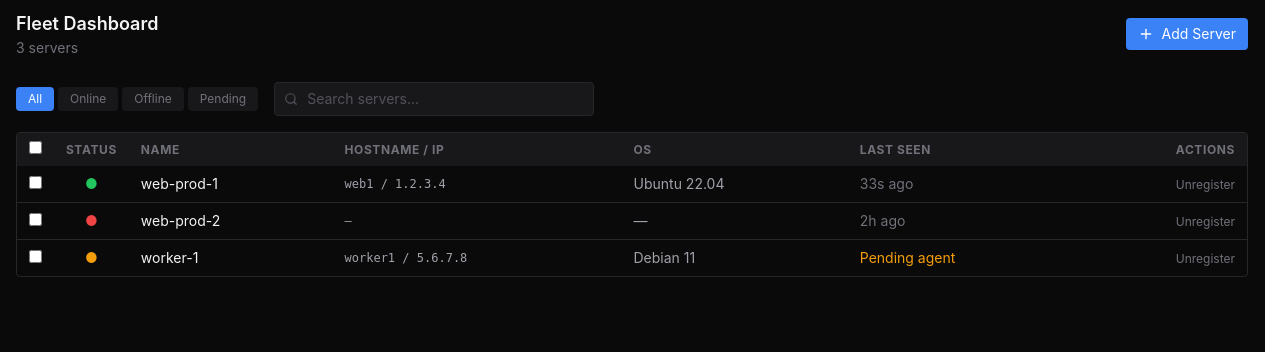
Test: DashboardPage › shows mass action bar when items are selected
Click the checkbox next to "web-prod-1": click(36, 182) [29,176,42,189]
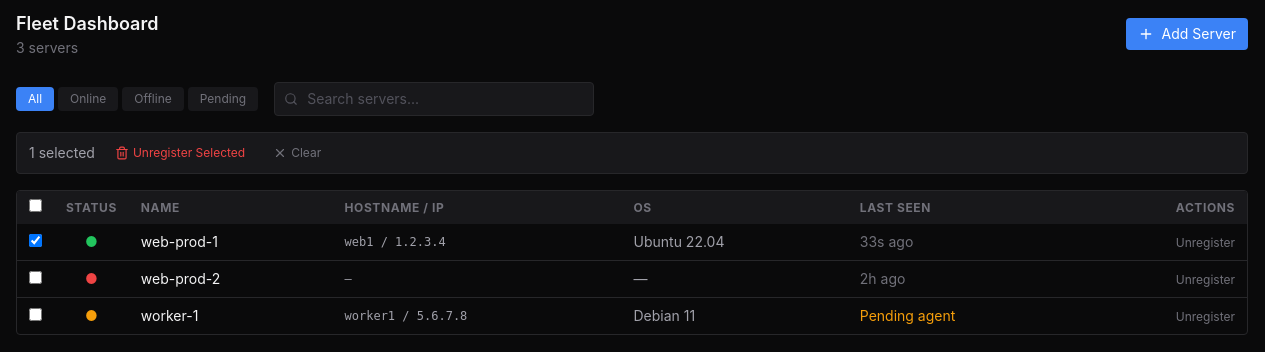
Now the text "1 selected" is shown, box [29,143,95,163]
Now the button "Unregister Selected" is shown, box [107,141,253,165]
